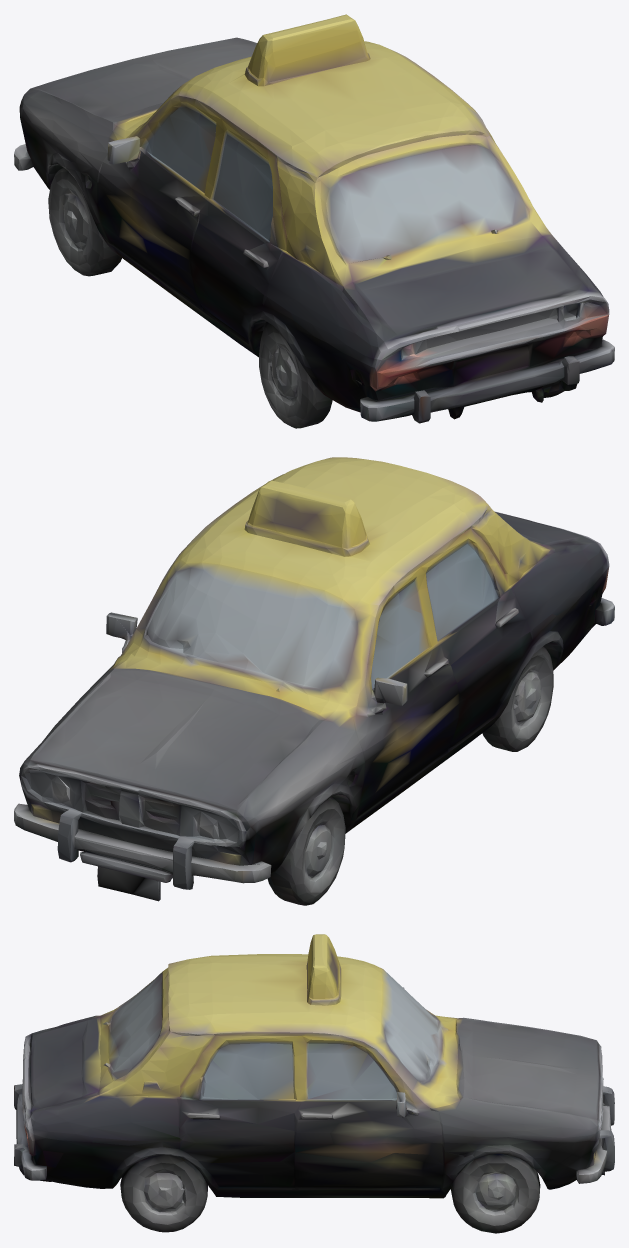
The model's file is taxi.glb.
3 views of the same model, one above another, from view 1: azimuth 30°, elevation 25°; view 2: azimuth 150°, elevation 25°; view 3: azimuth 270°, elevation 25° (orthographic). The views are drawn at different scales.
Size of the model in its own units: 0.4543 by 0.4366 by 0.9998.
